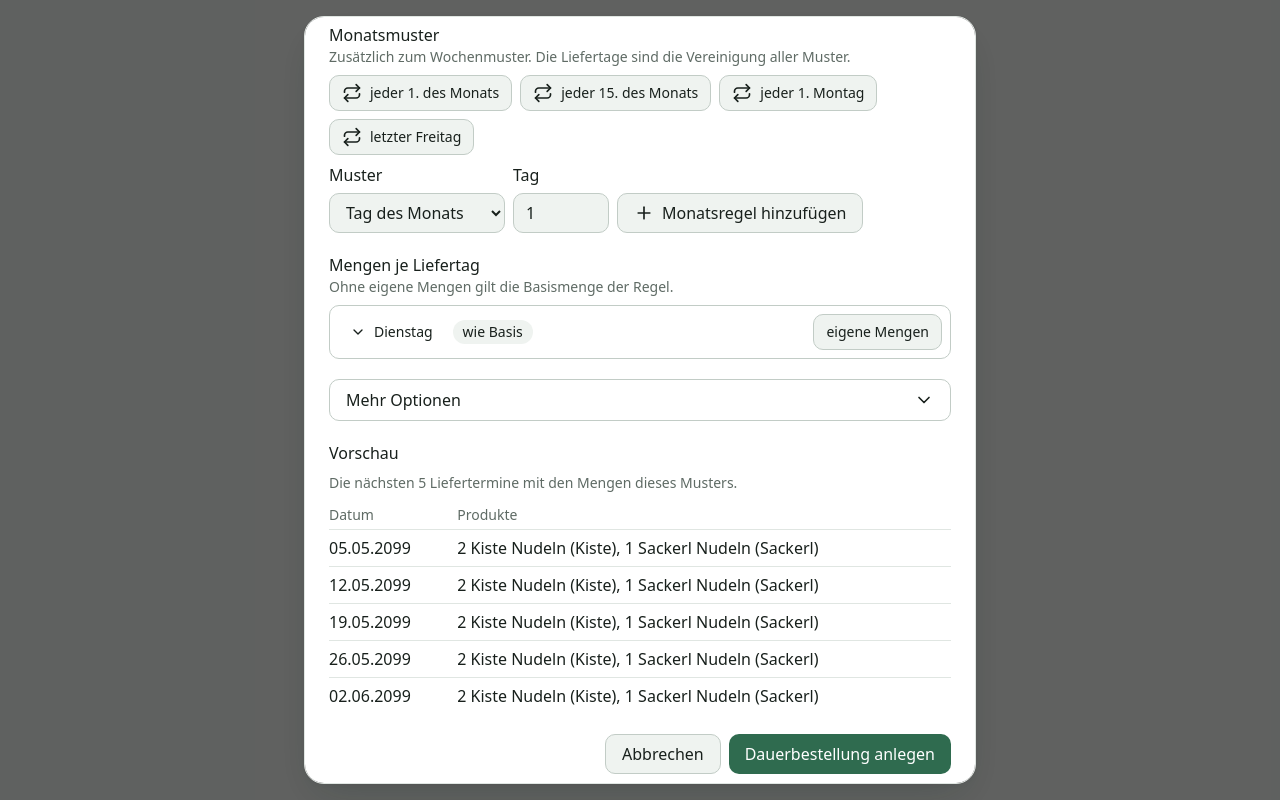
Test: OrderRecurringDialog (NUD-166, NUD-171) › turns the three end choices into endsOn or maxDeliveries
Later steps or results of the test are not shown.
(page scrolled)
Click the button with test id "order-recurring-more-options" at (403, 400), box [330, 380, 950, 420]
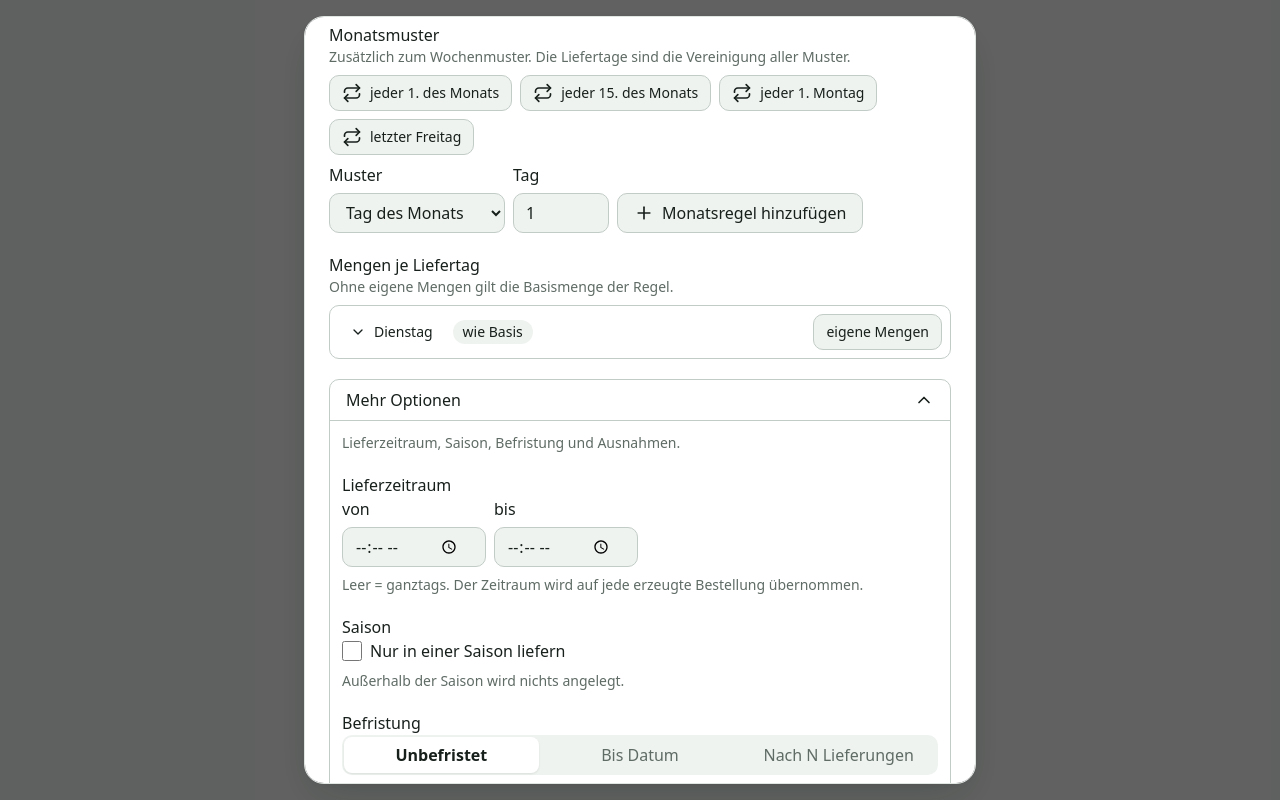
Click the radio button with test id "order-recurring-end-date" at (640, 755), box [543, 737, 737, 773]
(page scrolled)
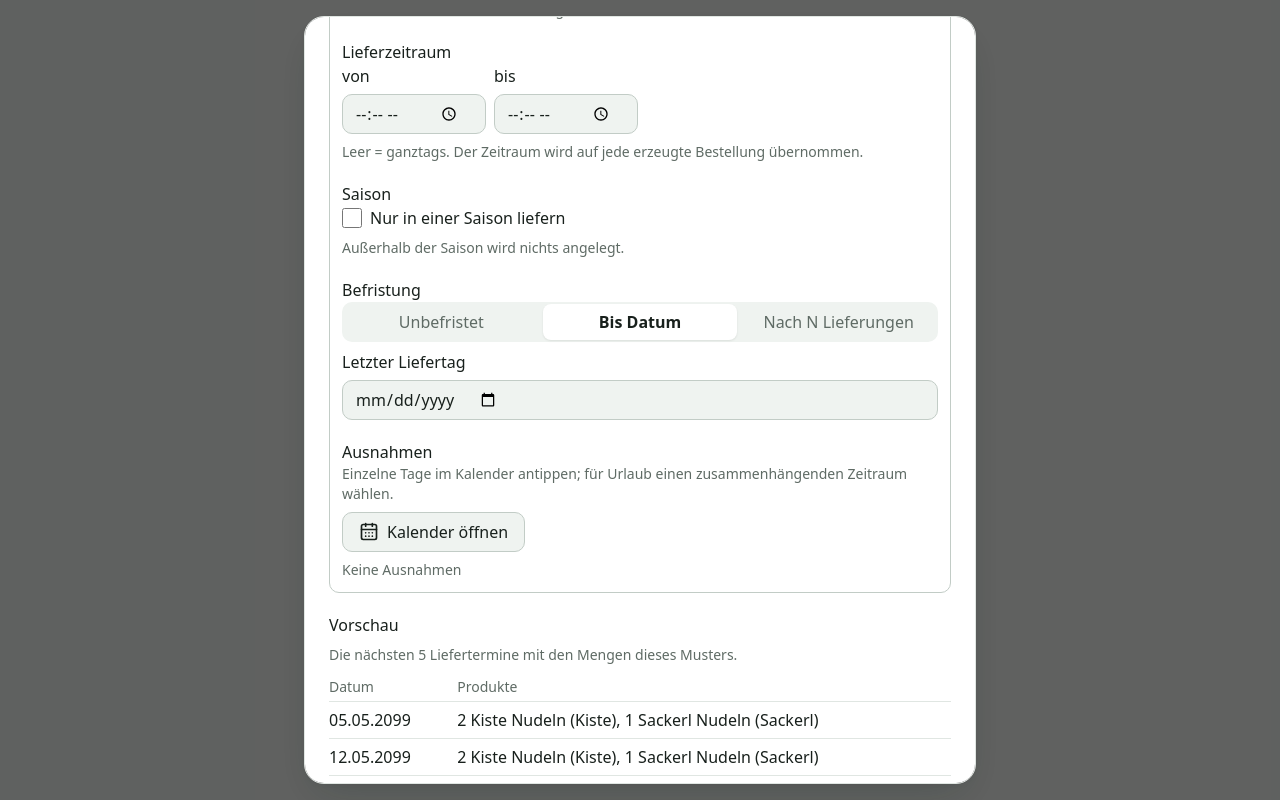
Expected: the radio button with test id "order-recurring-end-date" is checked, [543, 304, 737, 340]
